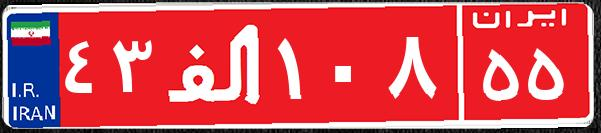0: (330, 28, 385, 110)
1: (273, 28, 330, 110)
3: (110, 28, 158, 105)
4: (57, 26, 110, 107)
5: (475, 38, 525, 113), (525, 38, 570, 115)
8: (385, 28, 445, 110)
الف: (158, 15, 273, 115)
